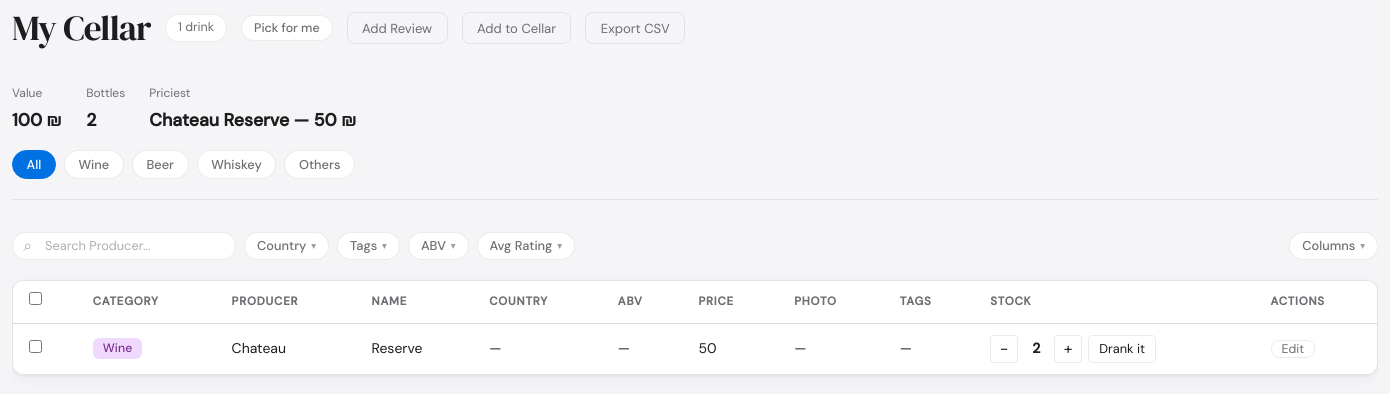
Scenario: Avg Bottle only appears once a category tab is selected
Expected: the text "1 drink" is shown, [165,14,227,42]
Expected: the text "Avg Bottle" is not shown
Click the button "Wine" at coordinates (94, 164), box [64,150,124,179]
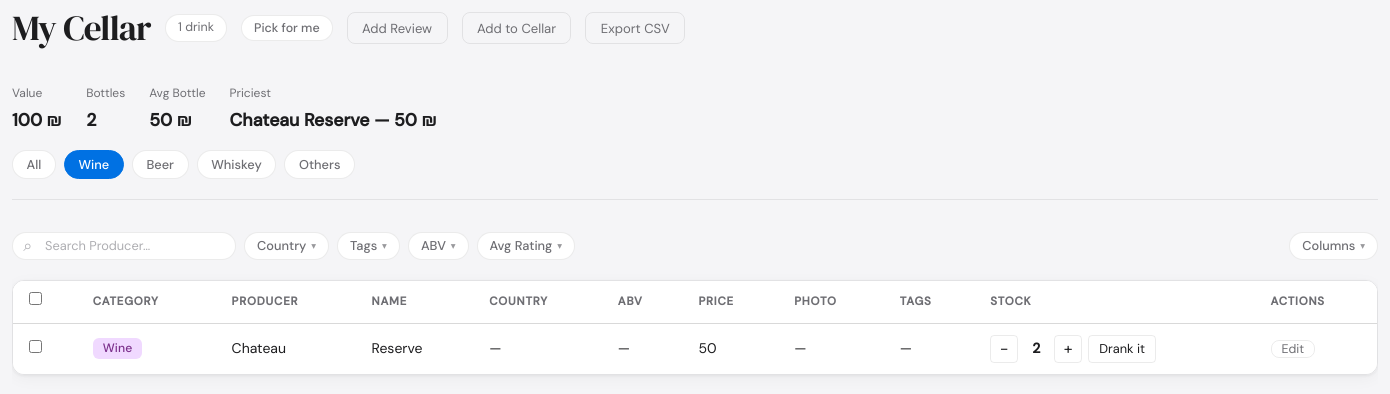
Result: the text "Avg Bottle" is shown at [149,84,206,104]
Result: the text "50 ₪" is shown at [149,109,192,131]
